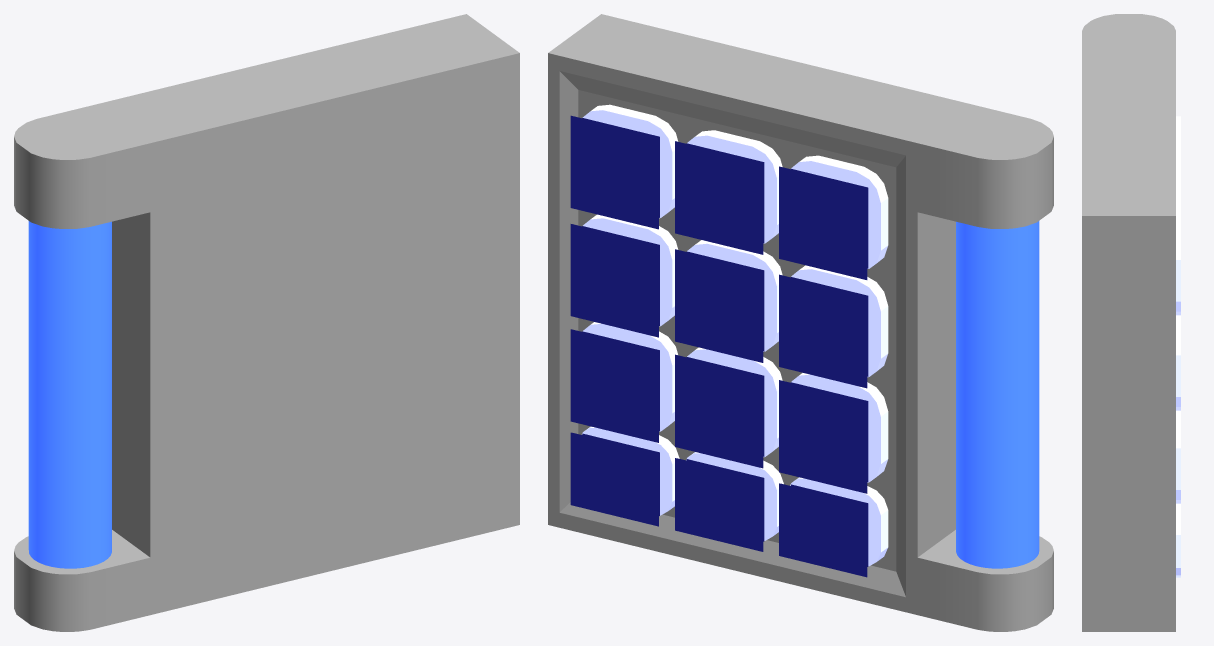
3 renders of one model, left to right at view 1: azimuth 30°, elevation 25°; view 2: azimuth 150°, elevation 25°; view 3: azimuth 270°, elevation 25°, orthographic. The views are drawn at different scales.
Visible parts, largest first — view 1: Menu; view 2: Menu, Button.006, Button.004, Button.008, Button, Button.001, Button.002, Button.005, Button.003, Button.007, Button.010, Button.009 (+13 smaller); view 3: Menu, DesktopOutline, DesktopOutline.005, DesktopOutline.006, DesktopOutline.011, DesktopOutline.002, DesktopOutline.001.
Part boxes in pixels (x1=…): Menu: x1=14, y1=14, x2=519, y2=631; Menu: x1=548, y1=14, x2=1053, y2=631; Button.006: x1=570, y1=329, x2=659, y2=442; Button.004: x1=675, y1=249, x2=764, y2=362; Button.008: x1=779, y1=380, x2=868, y2=493; Button: x1=570, y1=115, x2=659, y2=229; Button.001: x1=675, y1=141, x2=764, y2=254; Button.002: x1=779, y1=166, x2=868, y2=279; Button.005: x1=570, y1=224, x2=659, y2=337; Button.003: x1=779, y1=274, x2=868, y2=388; Button.007: x1=675, y1=354, x2=764, y2=468; Button.010: x1=675, y1=458, x2=764, y2=551; Button.009: x1=779, y1=483, x2=868, y2=577; Menu: x1=1082, y1=14, x2=1175, y2=631; DesktopOutline: x1=1176, y1=206, x2=1180, y2=315; DesktopOutline.005: x1=1176, y1=315, x2=1180, y2=410; DesktopOutline.006: x1=1176, y1=410, x2=1180, y2=503; DesktopOutline.011: x1=1176, y1=503, x2=1180, y2=577; DesktopOutline.002: x1=1176, y1=116, x2=1180, y2=161; DesktopOutline.001: x1=1176, y1=161, x2=1180, y2=205.
Bounding box in the file's own units: 50.81 × 48.81 × 12.54.
